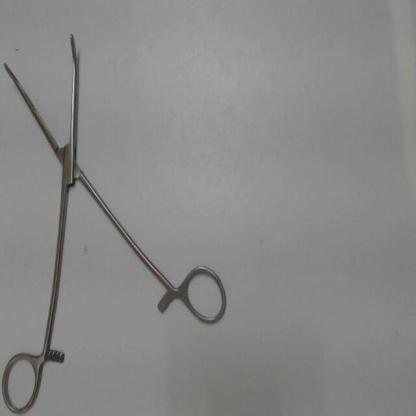Lahey Forceps: (1, 24, 233, 414)
